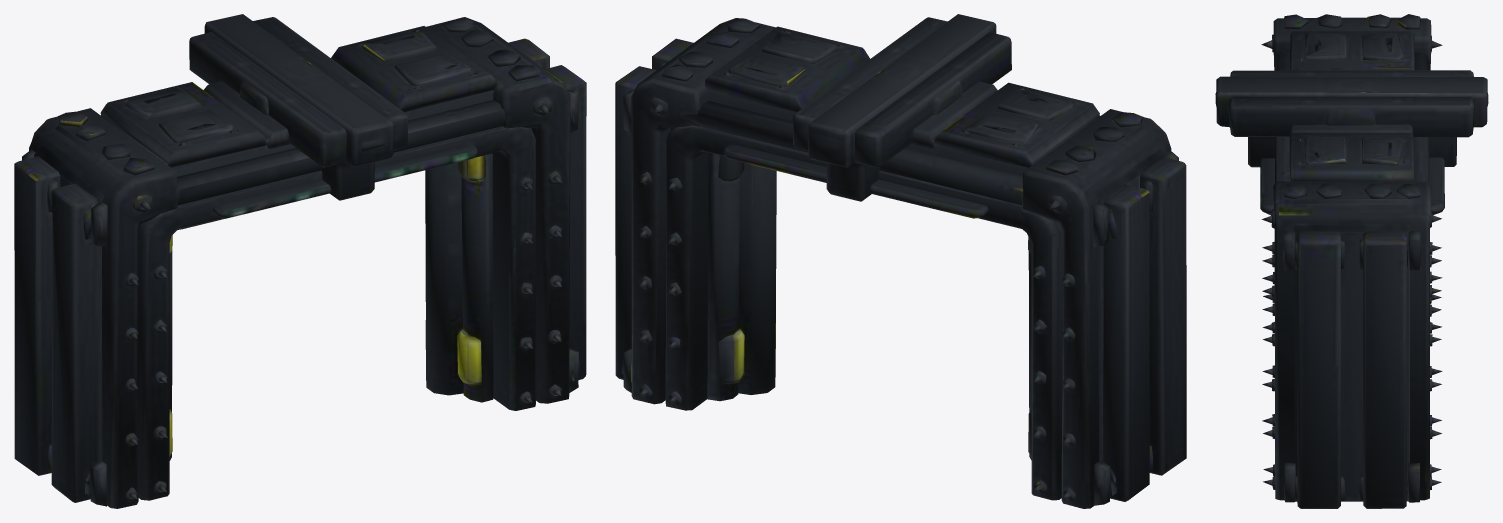
File: warship_door_frame_v2.glb
3 views of the same model, side by side, from view 1: azimuth 30°, elevation 25°; view 2: azimuth 150°, elevation 25°; view 3: azimuth 270°, elevation 25° (orthographic). The views are drawn at different scales.
Bounding box in the file's own units: 1 × 0.6554 × 0.5133.
Materials: 1 (1 with a texture image).
